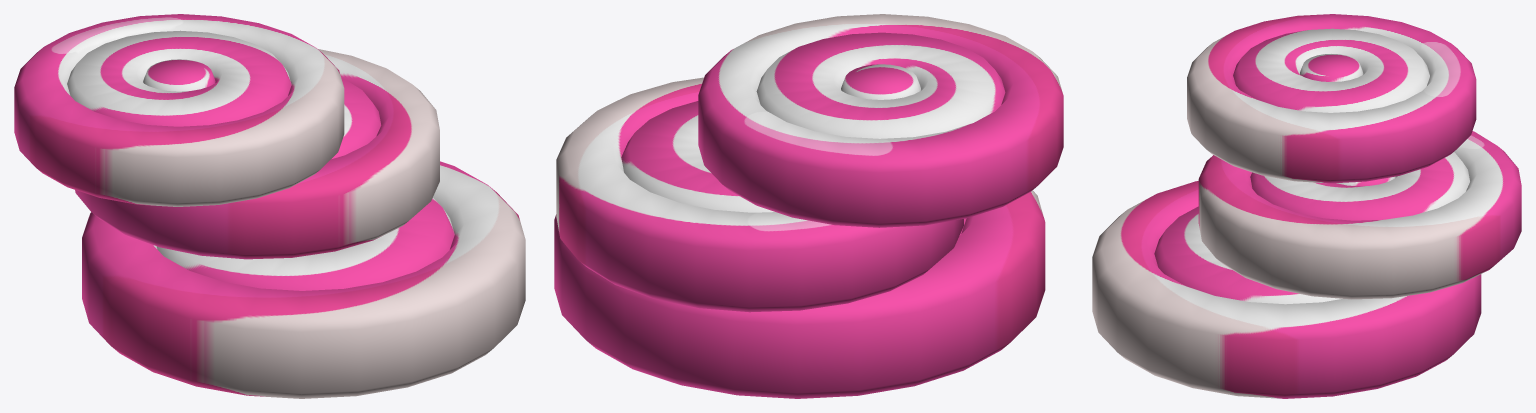
File: Candy_Twist_Triple_01.fbx
3 renders of one model, left to right at view 1: azimuth 30°, elevation 25°; view 2: azimuth 150°, elevation 25°; view 3: azimuth 270°, elevation 25°, orthographic. The views are drawn at different scales.
Parts seen in each view (by area): view 1: Candy_Twist_Triple_01; view 2: Candy_Twist_Triple_01; view 3: Candy_Twist_Triple_01.
Boxes of the visible parts, x1,y1,x2,y2 form: Candy_Twist_Triple_01: [14, 14, 525, 398]; Candy_Twist_Triple_01: [554, 14, 1063, 398]; Candy_Twist_Triple_01: [1092, 14, 1521, 398].
Size of the model in its own units: 93.04 by 51.59 by 90.92.
